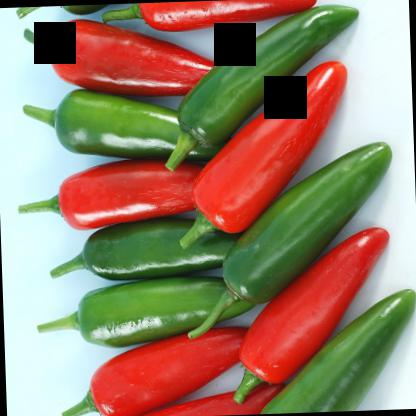chilli: (182, 144, 396, 341), (156, 4, 367, 169), (174, 61, 355, 247), (225, 226, 398, 404), (250, 286, 415, 414), (54, 325, 254, 415), (34, 272, 252, 348), (22, 14, 209, 102), (21, 86, 198, 166), (47, 212, 235, 283), (20, 156, 200, 230), (107, 0, 319, 32)
